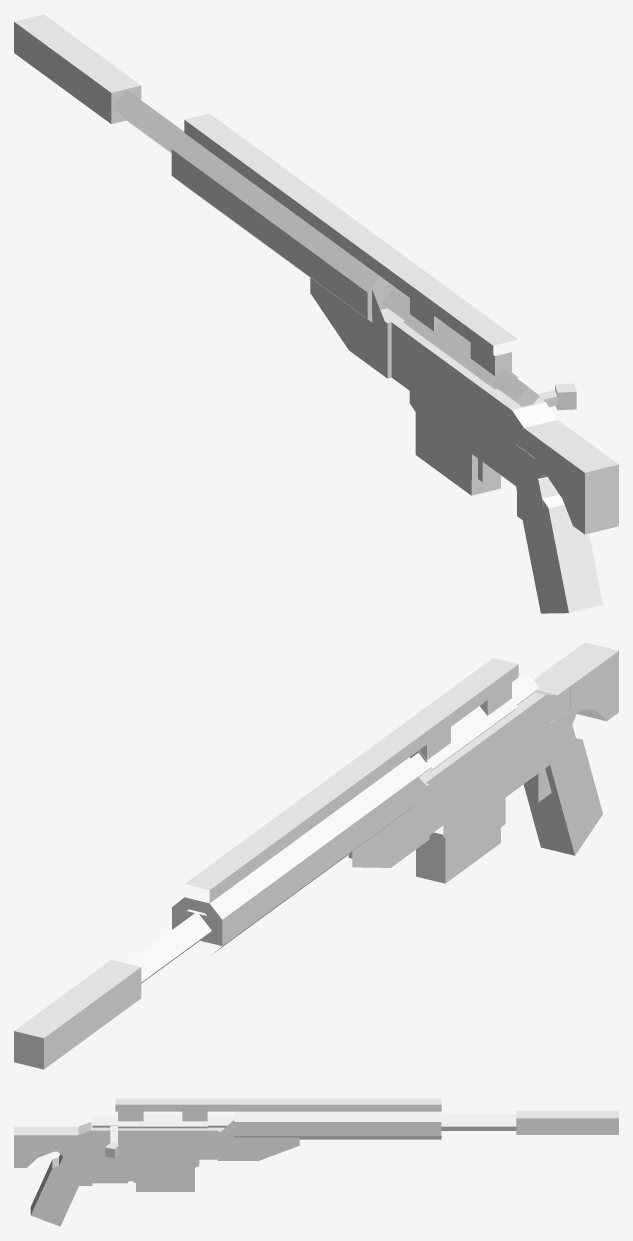
The model's file is aurorasarsenal_m40a6.glb.
The picture shows the model from 3 angles, top to bottom: view 1: azimuth 30°, elevation 25°; view 2: azimuth 150°, elevation 25°; view 3: azimuth 270°, elevation 25°; orthographic projection. The views are drawn at different scales.
Visible parts, largest first — view 1: Gun; view 2: Gun; view 3: Gun.
Boxes of the visible parts, x1=… form: Gun: x1=14, y1=14, x2=618, y2=613; Gun: x1=14, y1=642, x2=618, y2=1069; Gun: x1=14, y1=1098, x2=618, y2=1226.
Size of the model in its own units: 0.1382 by 0.3241 by 1.47.
1 material, 1 textured.
